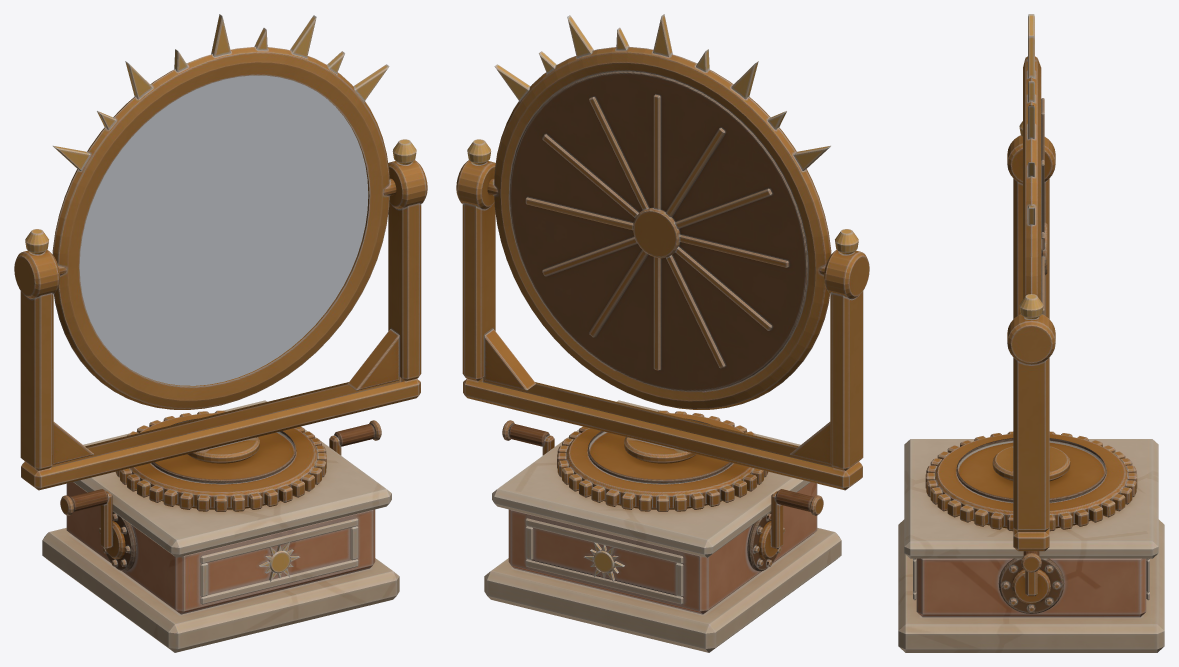
Rendered from sun_mirror.fbx.
The picture shows the model from 3 angles, left to right: view 1: azimuth 30°, elevation 25°; view 2: azimuth 150°, elevation 25°; view 3: azimuth 270°, elevation 25°; orthographic projection.
Visible parts, largest first — view 1: Mirror_Pane, Mirror_Plinth, Mirror_Yoke, Mirror_Frame, Mirror_Turntable, Mirror_CrankTurn, Mirror_CrankTilt; view 2: Mirror_Frame, Mirror_Plinth, Mirror_Yoke, Mirror_Turntable, Mirror_CrankTurn, Mirror_CrankTilt; view 3: Mirror_Plinth, Mirror_Yoke, Mirror_Turntable, Mirror_Frame, Mirror_CrankTilt.
Part boxes in pixels (box(x1,y1,x2,y2)): Mirror_Pane: box(79, 75, 368, 385); Mirror_Plinth: box(42, 400, 399, 652); Mirror_Yoke: box(14, 139, 427, 490); Mirror_Frame: box(52, 14, 396, 409); Mirror_Turntable: box(115, 410, 326, 511); Mirror_CrankTurn: box(60, 489, 125, 559); Mirror_CrankTilt: box(329, 420, 381, 455); Mirror_Frame: box(487, 14, 831, 409); Mirror_Plinth: box(484, 400, 841, 652); Mirror_Yoke: box(456, 139, 869, 490); Mirror_Turntable: box(557, 410, 768, 511); Mirror_CrankTurn: box(758, 489, 823, 559); Mirror_CrankTilt: box(502, 420, 554, 455); Mirror_Plinth: box(898, 439, 1164, 652); Mirror_Yoke: box(992, 121, 1070, 551); Mirror_Turntable: box(925, 431, 1137, 531); Mirror_Frame: box(1023, 14, 1047, 314); Mirror_CrankTilt: box(1012, 551, 1050, 604).
Size of the model in its own units: 374 by 514 by 220.
